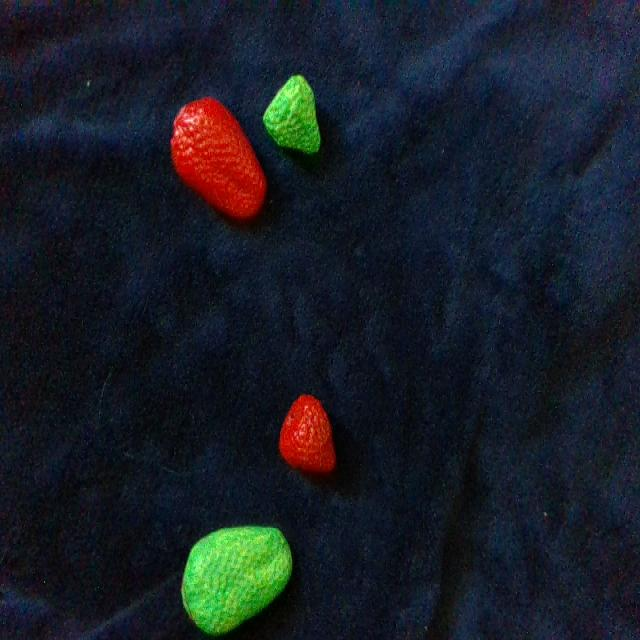chica_roja: (280, 396, 335, 472)
grande_roja: (172, 97, 265, 217)
verde: (182, 528, 291, 635), (265, 76, 319, 153)
